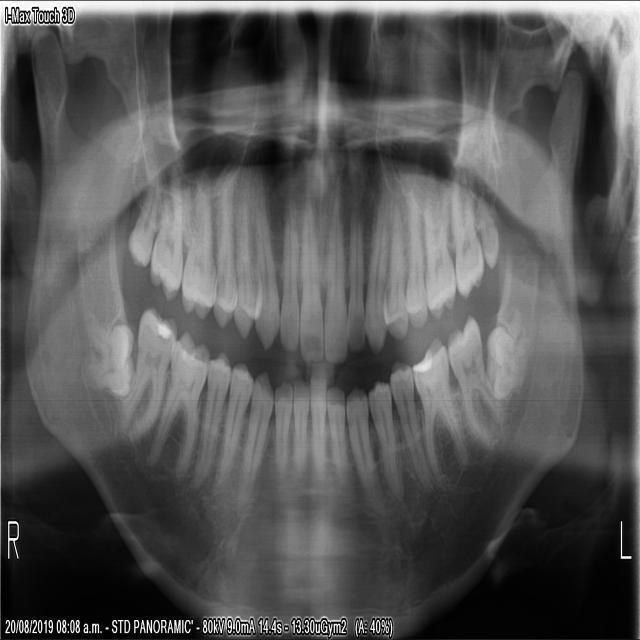LCD: (342, 383, 383, 517)
LCU: (361, 198, 385, 354)
LID: (323, 384, 346, 478), (306, 369, 324, 482)
LIU: (320, 200, 345, 364), (343, 200, 362, 349)
LMD: (409, 335, 467, 490), (444, 312, 503, 445), (484, 320, 526, 398)
LMU: (420, 180, 454, 321), (448, 169, 482, 299), (473, 196, 497, 268)
LPMD: (387, 356, 430, 490), (365, 377, 401, 501)
LPMU: (380, 201, 405, 339), (402, 192, 425, 328)
RCD: (237, 366, 272, 511)
RCU: (252, 179, 277, 348)
RID: (290, 373, 308, 478), (272, 378, 291, 474)
RIU: (295, 197, 321, 364), (276, 193, 298, 352)
RMD: (143, 326, 208, 479), (116, 303, 175, 440), (77, 312, 132, 398)
RMU: (178, 165, 214, 320), (147, 158, 180, 301), (124, 167, 156, 267)
RPMD: (207, 360, 252, 496), (190, 347, 230, 494)
RPMU: (209, 166, 235, 327), (231, 173, 255, 338)
